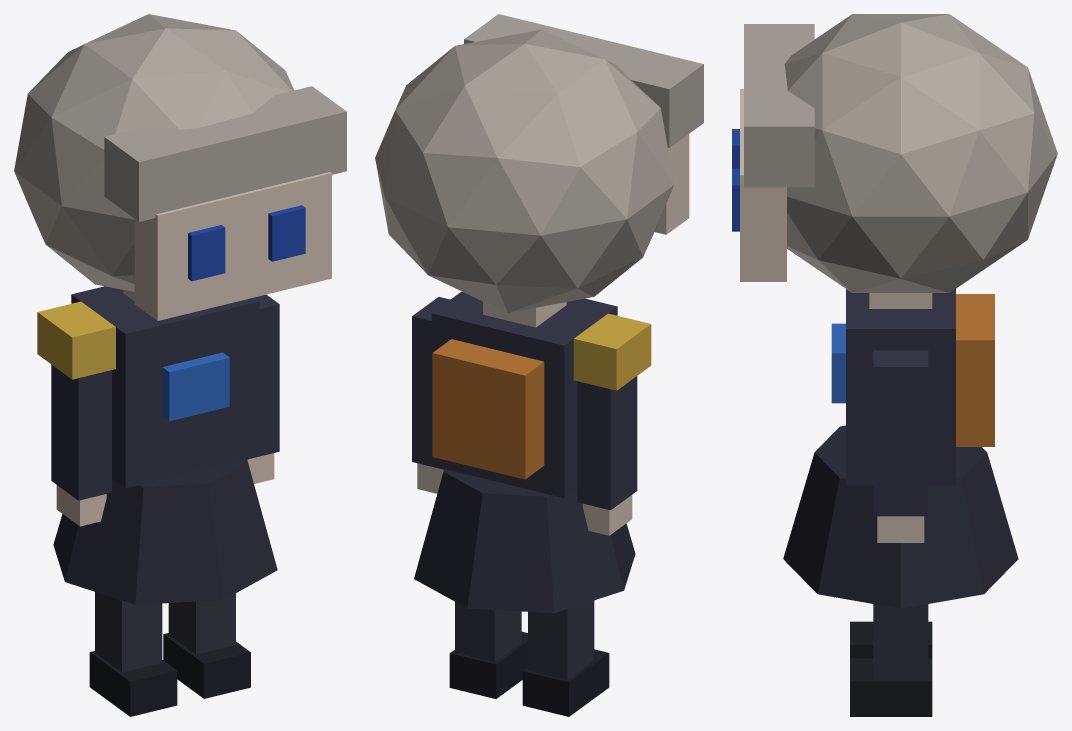
Rendered from poc_player.fbx.
3 renders of one model, left to right at view 1: azimuth 30°, elevation 25°; view 2: azimuth 150°, elevation 25°; view 3: azimuth 270°, elevation 25°, orthographic. The views are drawn at different scales.
Visible parts, largest first — view 1: POC_Player; view 2: POC_Player; view 3: POC_Player.
Boxes of the visible parts, x1=… form: POC_Player: x1=14, y1=14, x2=346, y2=716; POC_Player: x1=375, y1=14, x2=703, y2=716; POC_Player: x1=732, y1=14, x2=1057, y2=716.
Size of the model in its own units: 0.3804 by 0.934 by 0.415.
